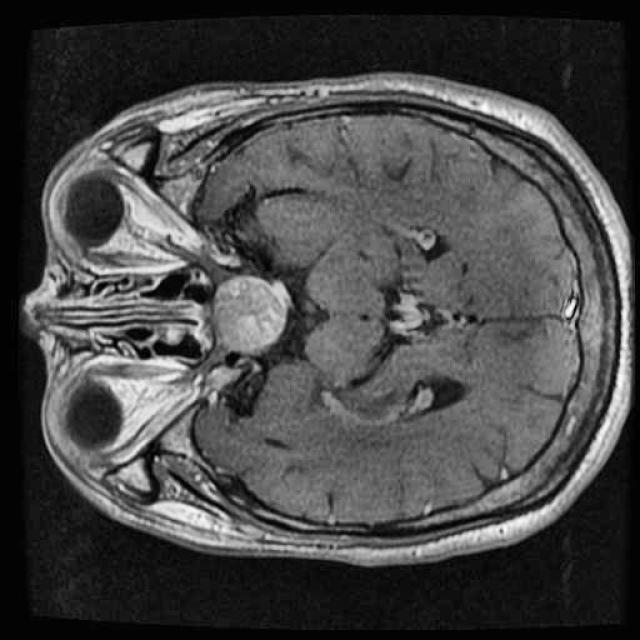Tumor: (196, 265, 296, 364)
